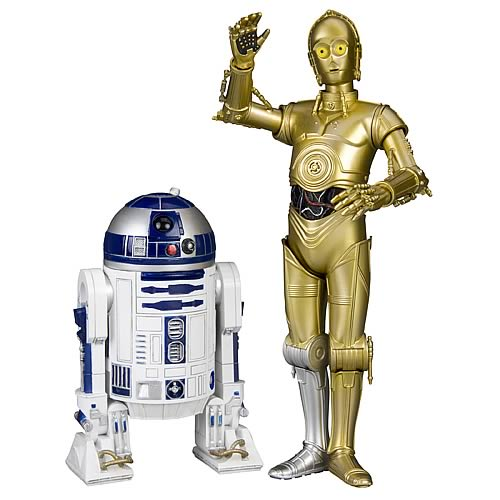r2d2: (63, 189, 261, 485)
